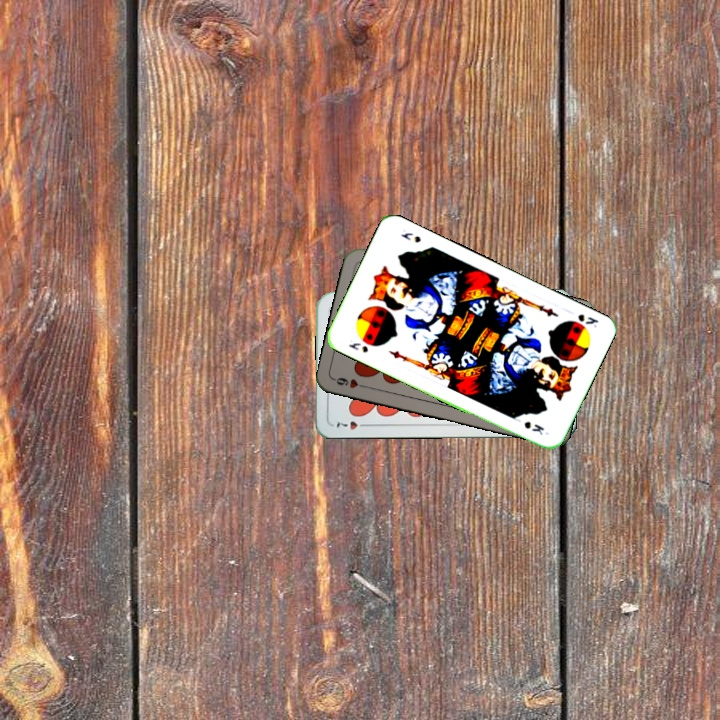H7: (333, 417, 371, 432)
H9: (331, 373, 371, 391)
SK: (574, 310, 601, 330), (345, 339, 371, 355)
